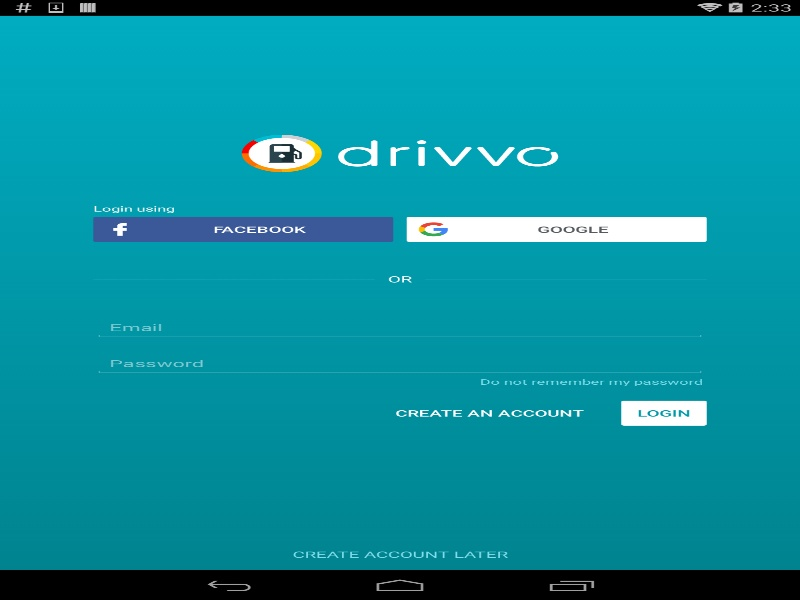Button: (13, 545, 786, 563), (93, 375, 713, 388), (93, 216, 393, 241), (406, 216, 706, 241), (384, 400, 594, 425), (621, 400, 706, 425)
Input: (93, 316, 706, 339), (93, 352, 706, 375)
